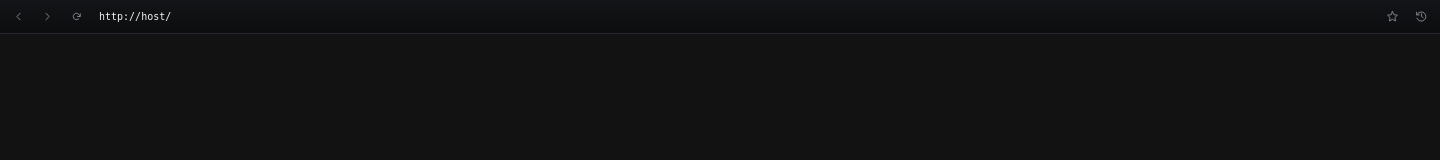
keeps the full-history entry available when empty and closes before opening the modal
Focus the dropdown at (734, 16), box [94,4,1375,29]
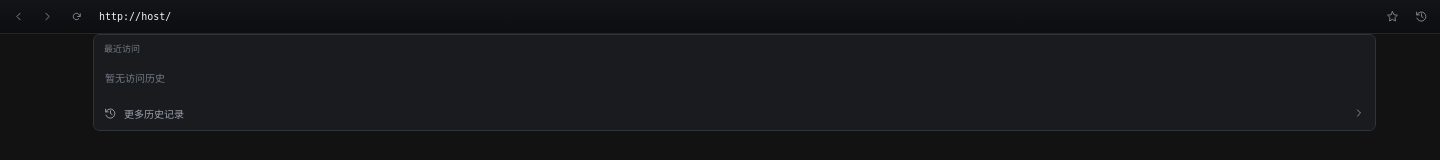
Result: the text "暂无访问历史" is shown at [105,72,165,84]
Click the option "更多历史记录" at (154, 114), box [97,99,1372,127]
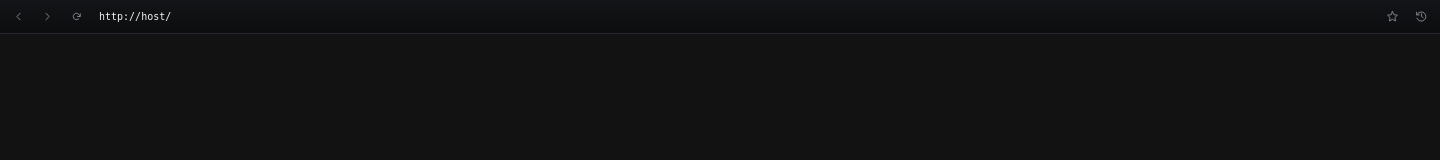
Result: the list is gone
